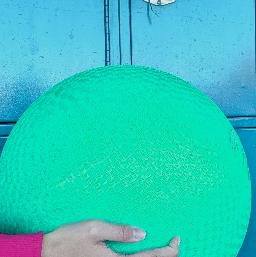algae: (0, 67, 249, 257)
